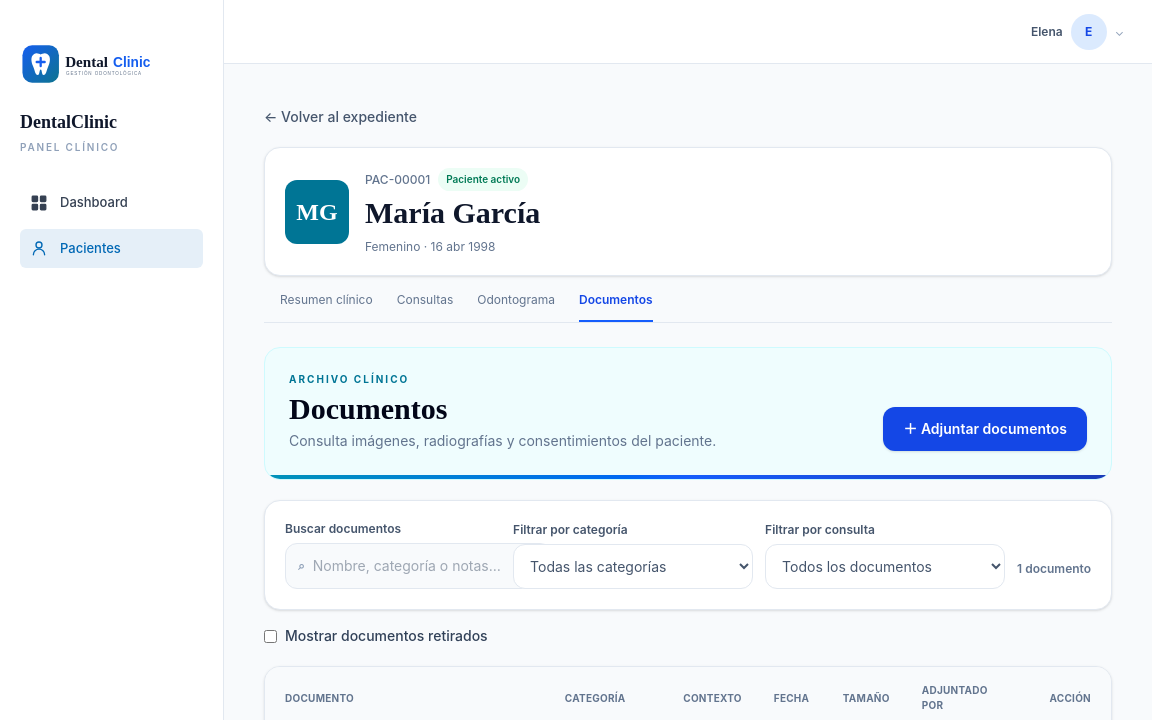
Scenario: patient documents page › lets an administrator find and restore a retired document
What coordinates should you click on to do the following:
click the checkbox labelled "Mostrar documentos retirados"
I would click on:
 (270, 636)
Its box is [264,630,277,642].
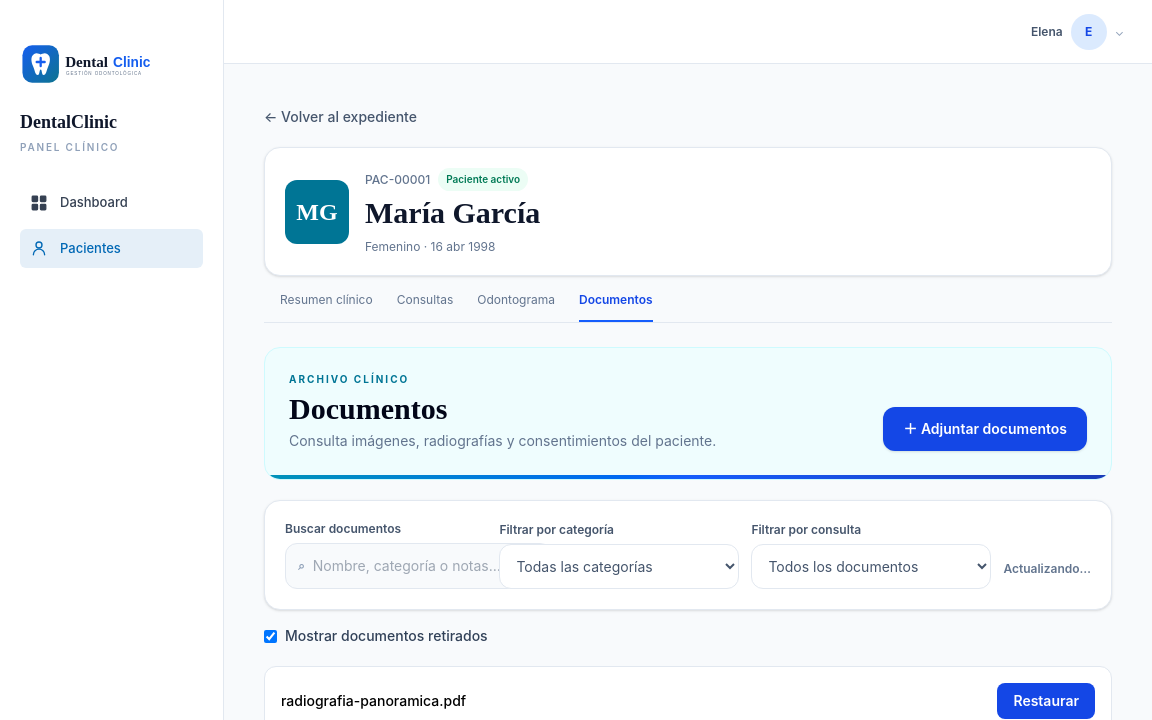
What coordinates should you click on to do the following:
click the button "Restaurar"
I would click on:
 (1046, 701)
Its box is [997,683,1095,719].
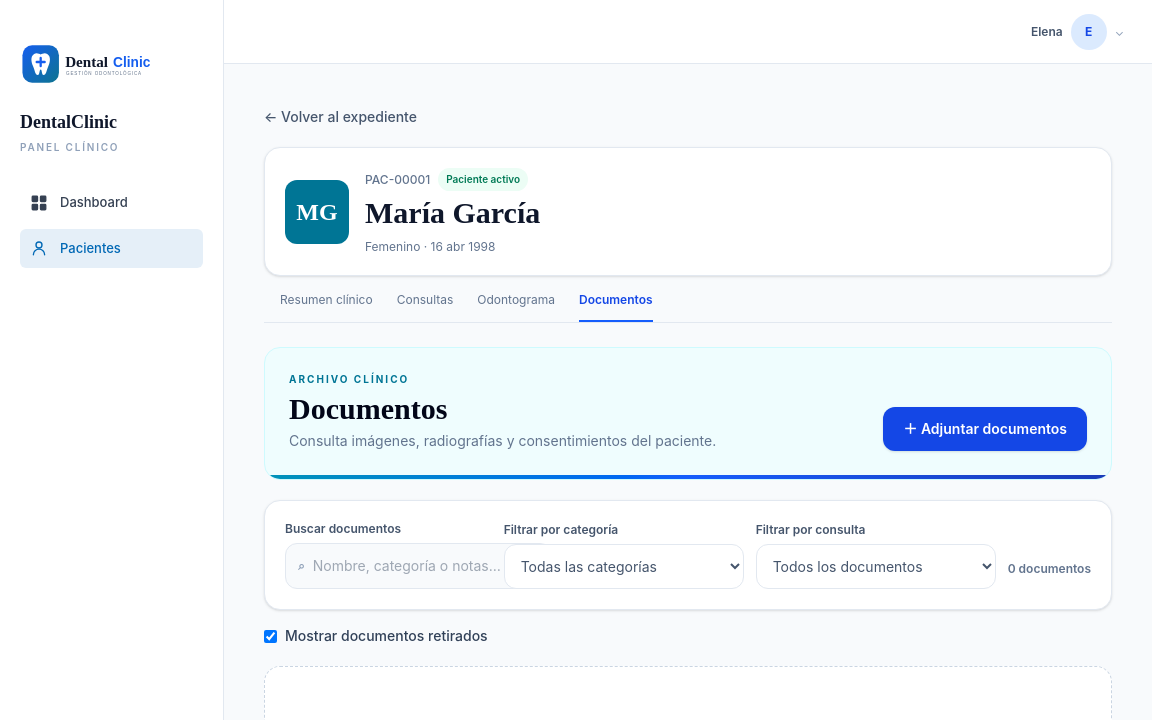
Check: the button "Restaurar" is gone
